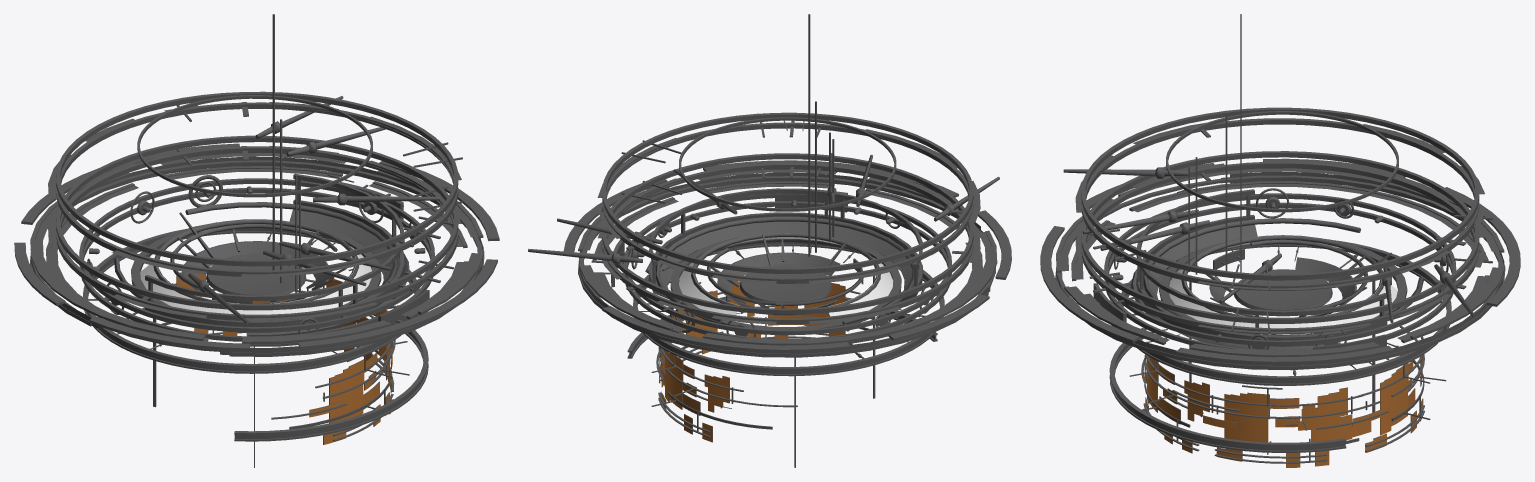
Rendered from VexArchitecture_50.fbx.
The picture shows the model from 3 angles, left to right: view 1: azimuth 30°, elevation 25°; view 2: azimuth 150°, elevation 25°; view 3: azimuth 270°, elevation 25°; orthographic projection. The views are drawn at different scales.
Parts seen in each view (by area): view 1: Mesh_0042.rip, Mesh_0227.rip, Mesh_0065.rip, Mesh_0070.rip, Mesh_0050.rip, Mesh_0100.rip, Mesh_0044.rip; view 2: Mesh_0042.rip, Mesh_0227.rip, Mesh_0070.rip, Mesh_0065.rip, Mesh_0100.rip, Mesh_0050.rip, Mesh_0044.rip; view 3: Mesh_0042.rip, Mesh_0227.rip, Mesh_0100.rip, Mesh_0070.rip, Mesh_0065.rip, Mesh_0050.rip, Mesh_0044.rip.
Part boxes in pixels (x1,y1,x2,y2): Mesh_0042.rip: (14, 91, 499, 356); Mesh_0227.rip: (114, 173, 409, 336); Mesh_0065.rip: (83, 228, 428, 441); Mesh_0070.rip: (88, 14, 409, 467); Mesh_0050.rip: (188, 96, 439, 324); Mesh_0100.rip: (176, 272, 392, 444); Mesh_0044.rip: (140, 220, 371, 314); Mesh_0042.rip: (563, 112, 1011, 357); Mesh_0227.rip: (645, 188, 922, 329); Mesh_0070.rip: (638, 14, 925, 467); Mesh_0065.rip: (627, 242, 944, 376); Mesh_0100.rip: (659, 281, 864, 442); Mesh_0050.rip: (528, 153, 999, 264); Mesh_0044.rip: (679, 233, 893, 316); Mesh_0042.rip: (1040, 107, 1520, 370); Mesh_0227.rip: (1131, 189, 1423, 349); Mesh_0100.rip: (1144, 336, 1423, 467); Mesh_0070.rip: (1129, 14, 1446, 465); Mesh_0065.rip: (1109, 240, 1451, 452); Mesh_0050.rip: (1063, 167, 1475, 322); Mesh_0044.rip: (1169, 235, 1397, 334).
Size of the model in its own units: 200 by 195 by 200.
